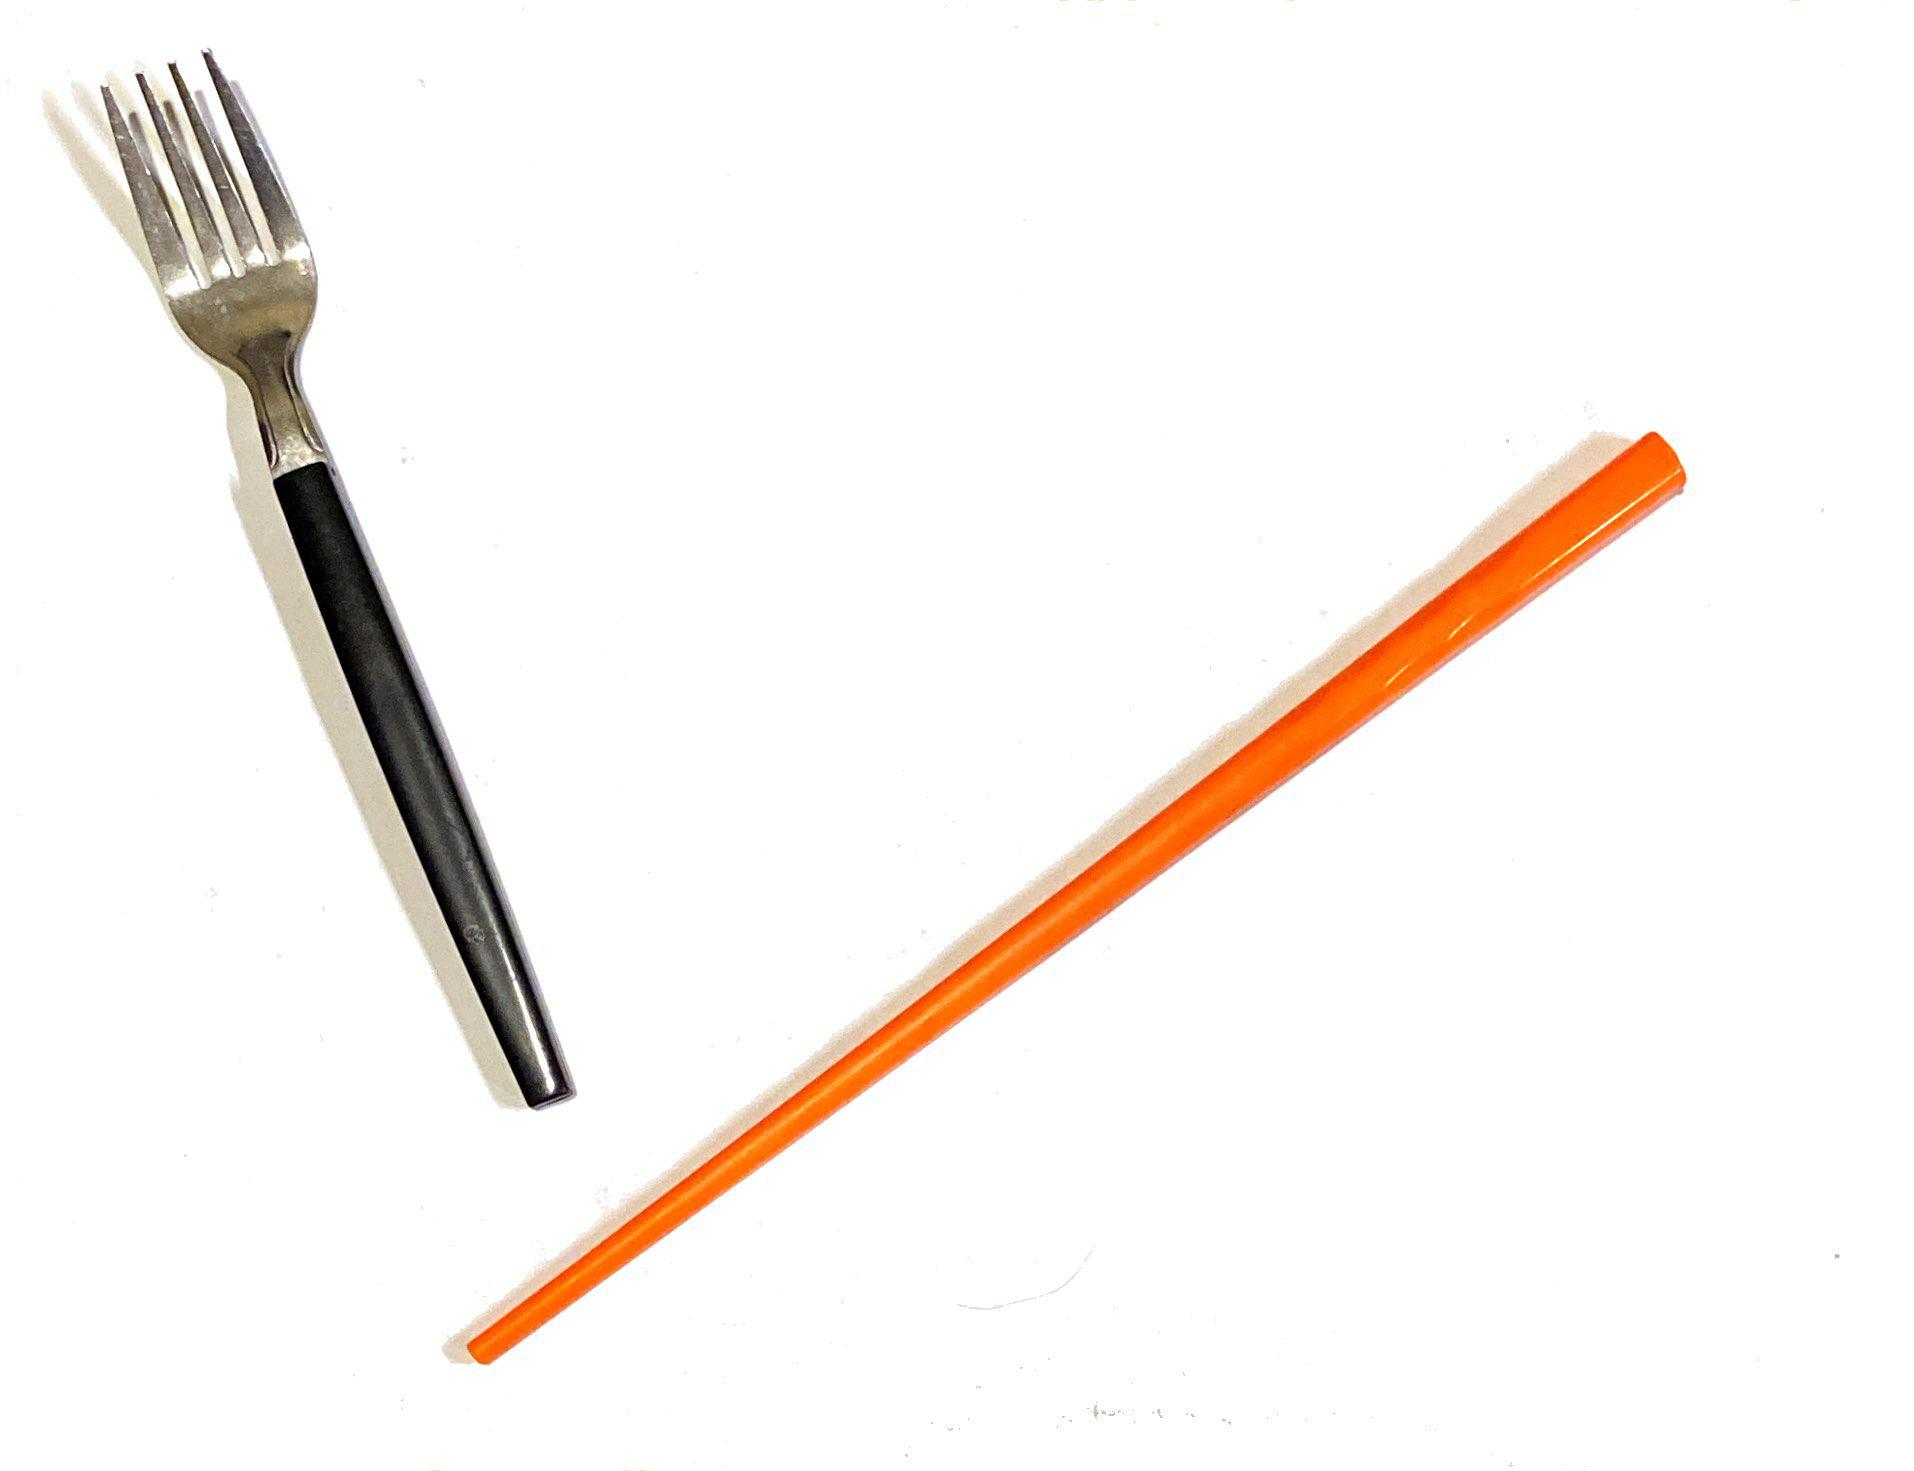Chopstick: (463, 413, 1775, 1411)
Fork: (48, 42, 681, 1119)
